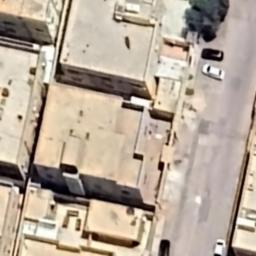sedan: (202, 64, 224, 81), (200, 47, 224, 61), (214, 238, 226, 256), (159, 239, 170, 256)
